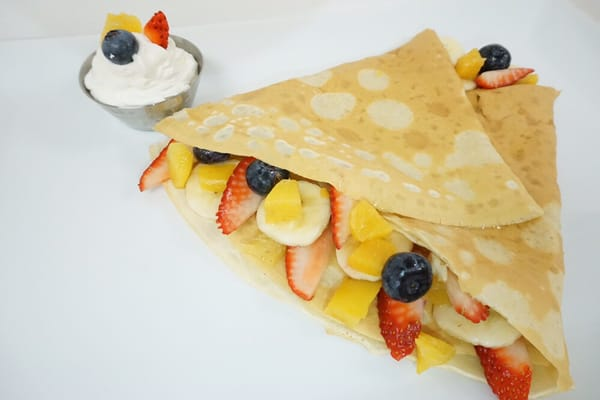pasta: (256, 179, 332, 247)
